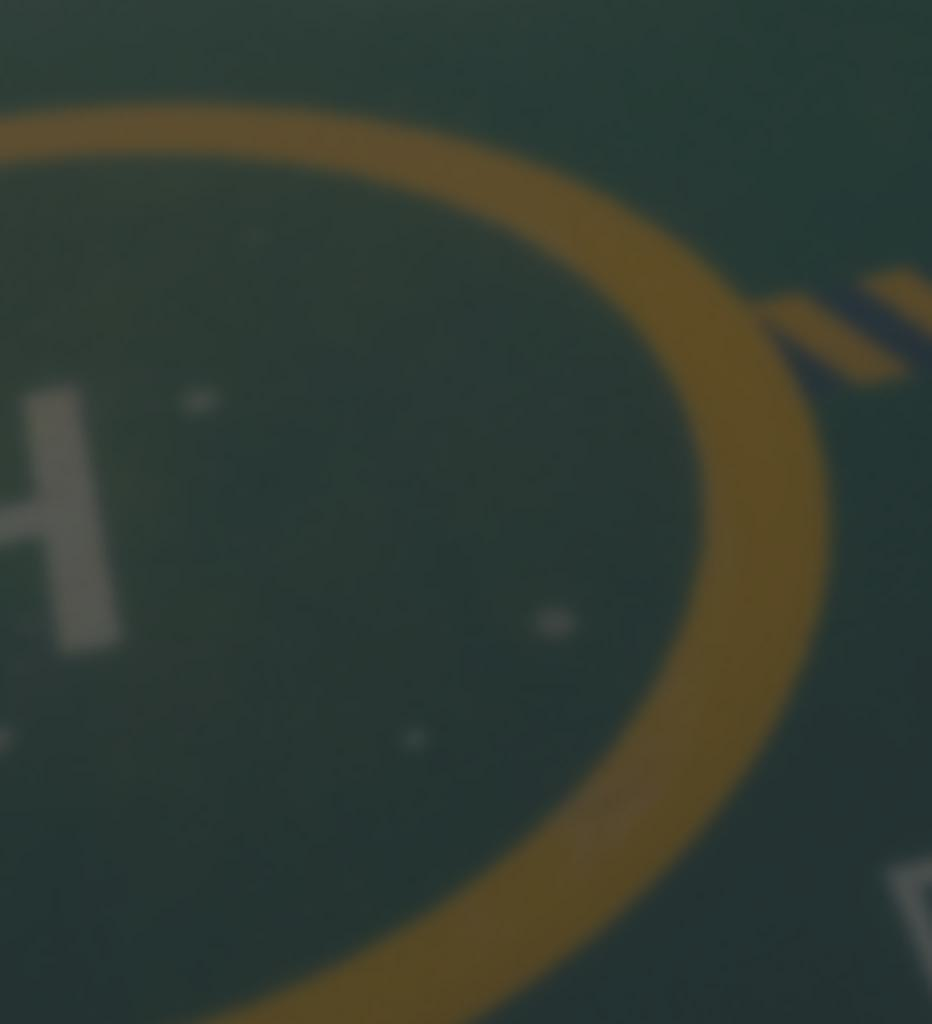Apron: (1, 80, 844, 1024)
